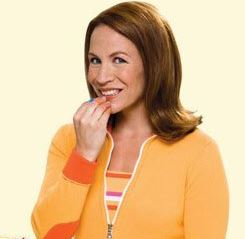eat: (72, 86, 131, 164)
